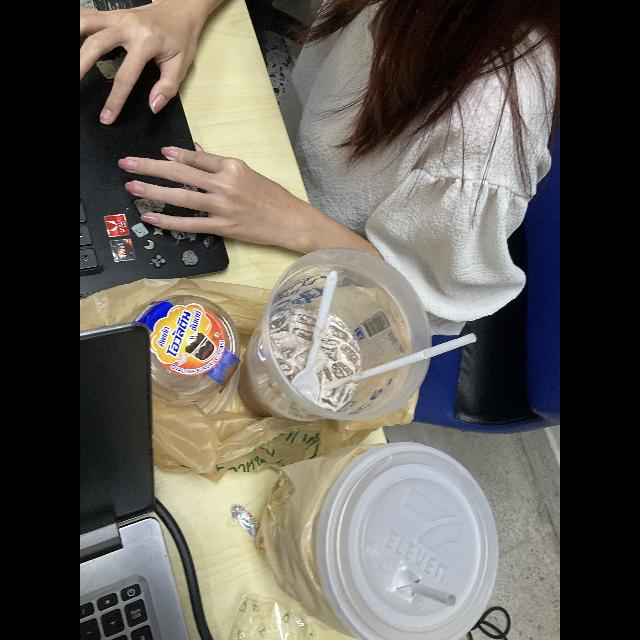plastic_bag: (80, 270, 423, 476), (253, 440, 377, 640)
plastic_cultery: (288, 267, 340, 409)
plastic_cup: (247, 244, 437, 424), (134, 291, 242, 403)
plastic_cup_lid: (320, 432, 502, 640)
scrap_plastic: (226, 584, 318, 640), (223, 496, 277, 542)
straw: (322, 330, 476, 394)
